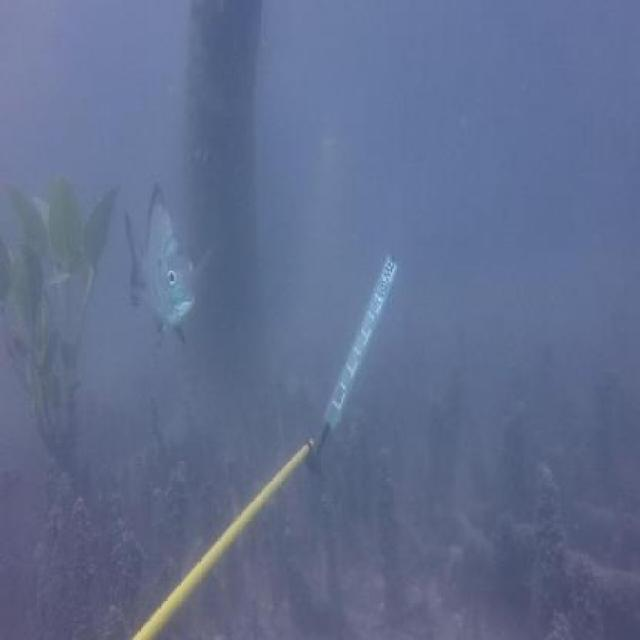acanthopagrus_palmaris: (118, 173, 212, 352)
